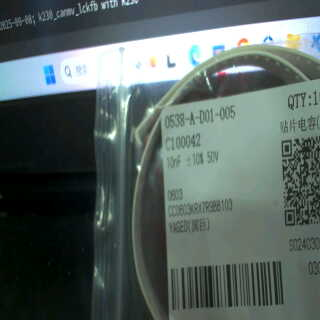10nF: (164, 153, 183, 174)
